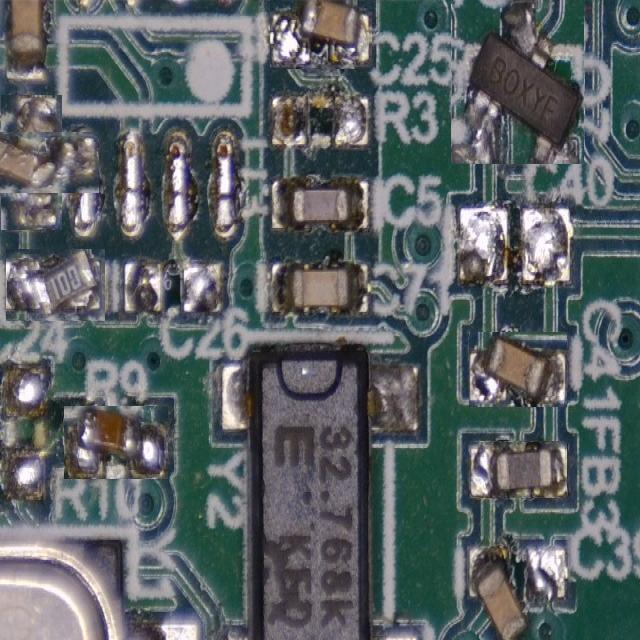Incorrect_installation: (451, 0, 584, 164), (467, 547, 569, 639), (65, 407, 167, 479), (469, 333, 567, 407), (271, 0, 370, 69), (7, 250, 103, 320), (0, 133, 99, 192), (469, 441, 566, 498)
